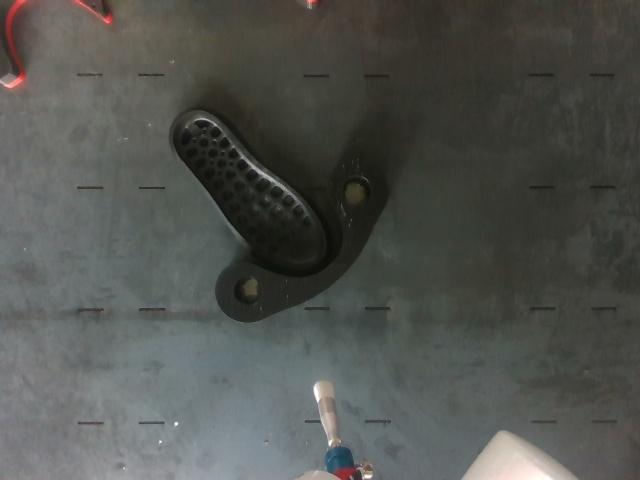shoes: (171, 111, 326, 272)
